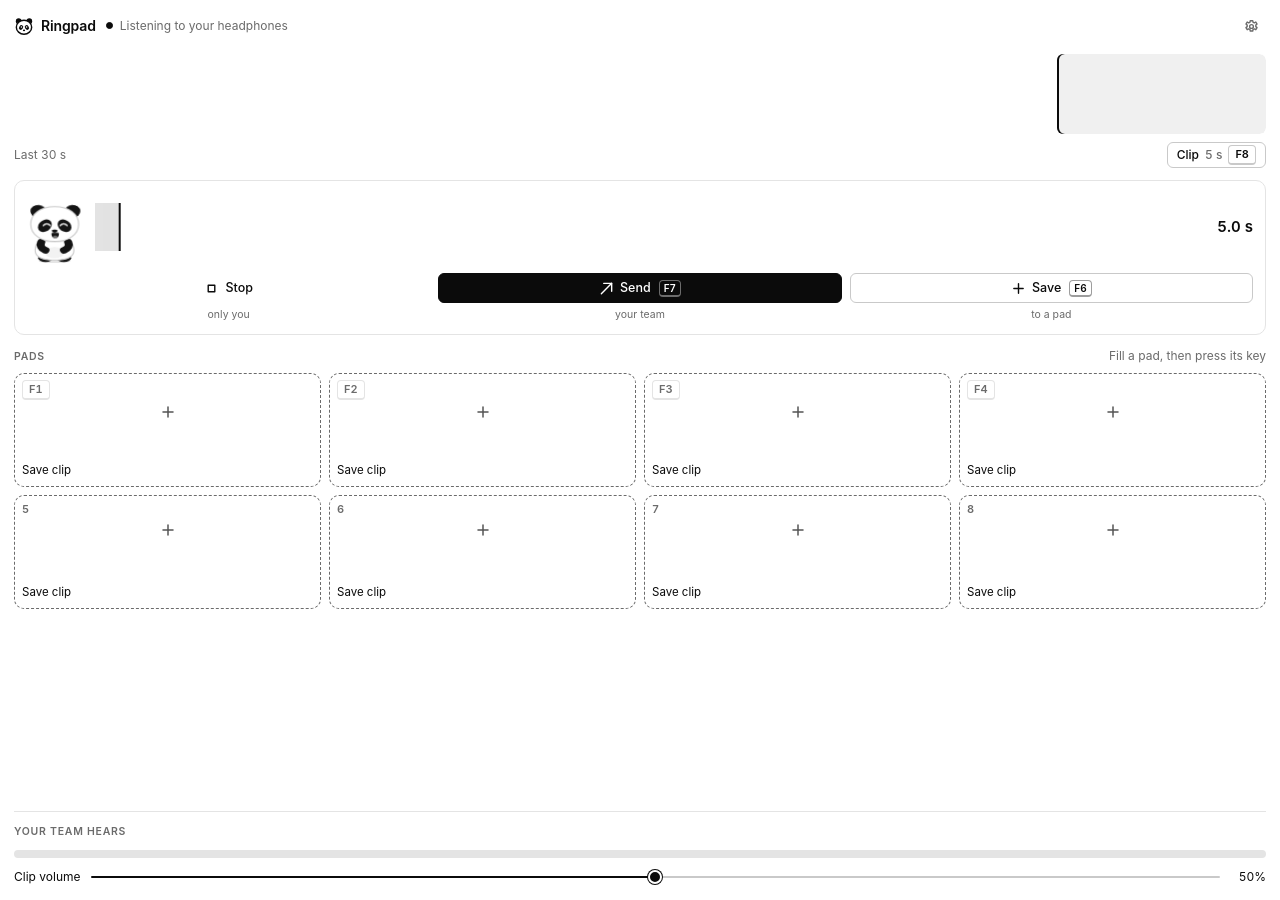
it: main window › closes the save sheet with Escape or a click outside
The image size is (1280, 900).
Later steps or results of the test are not shown.
Click the button "Save F6 to a pad" at (1051, 298), box left=850, top=273, right=1253, bottom=322
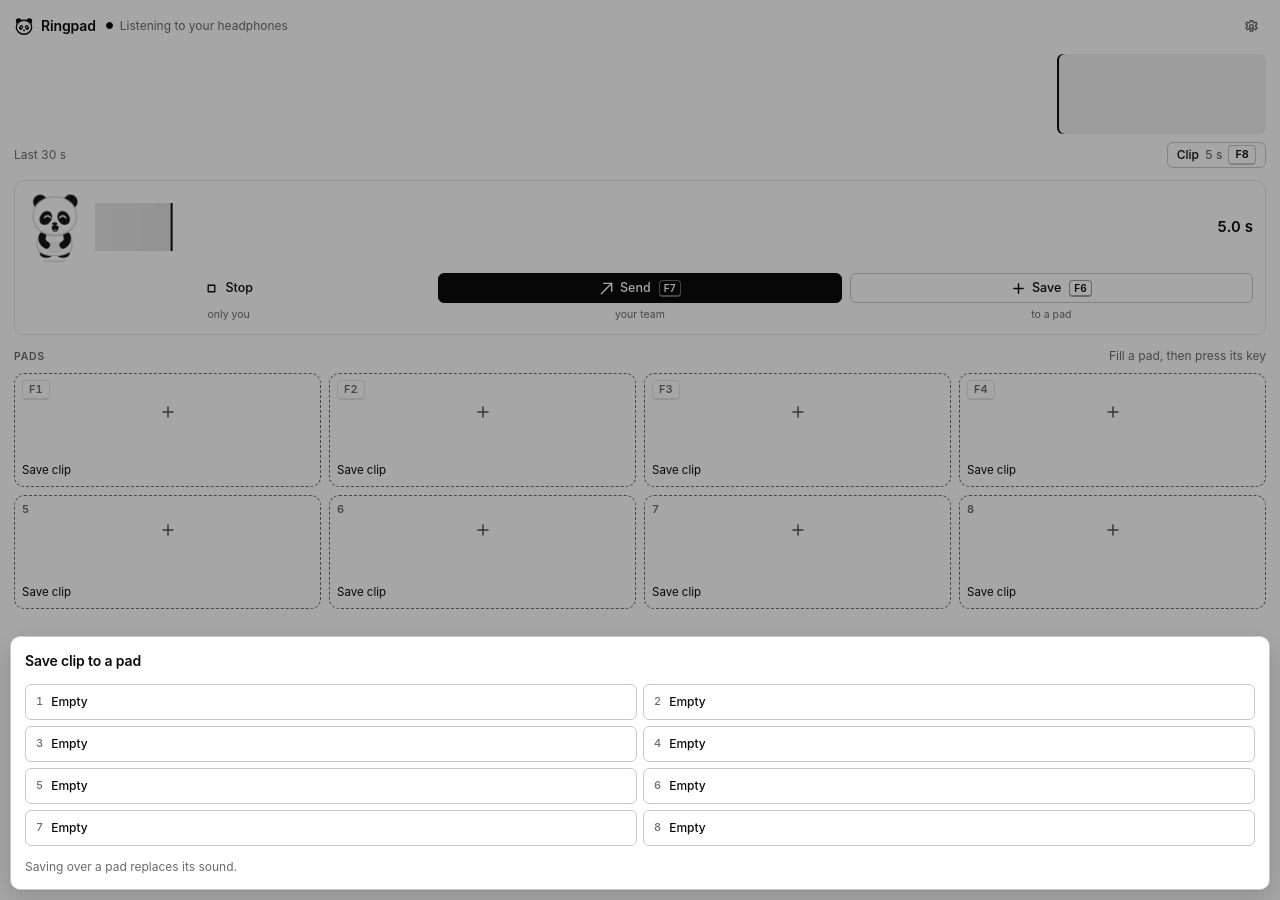
Press Escape
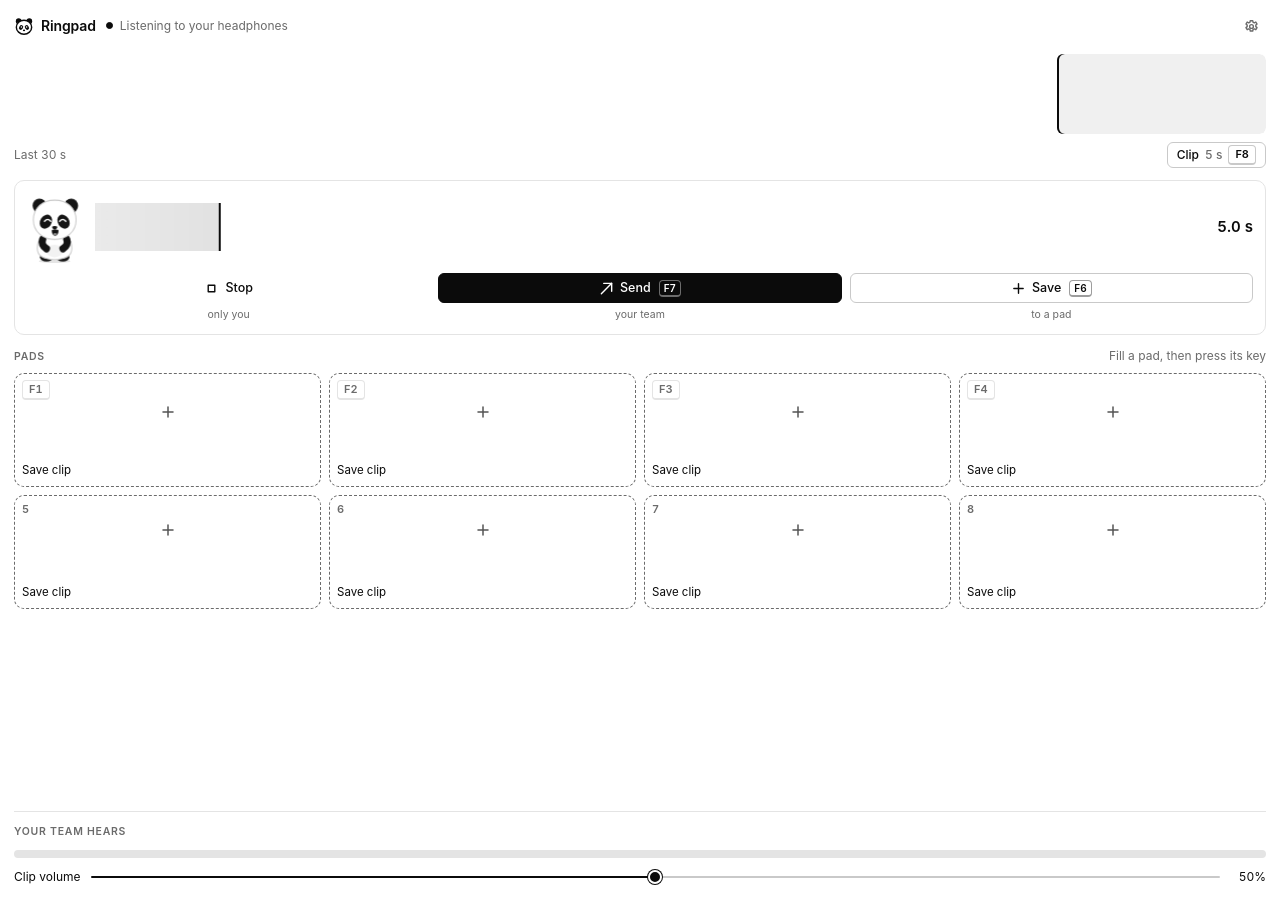
Check: the dialog is gone
